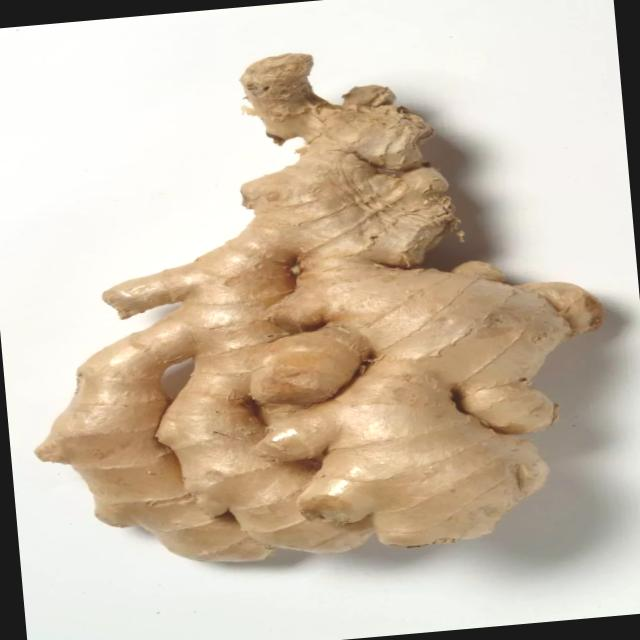ginger-root: (0, 23, 629, 586)
